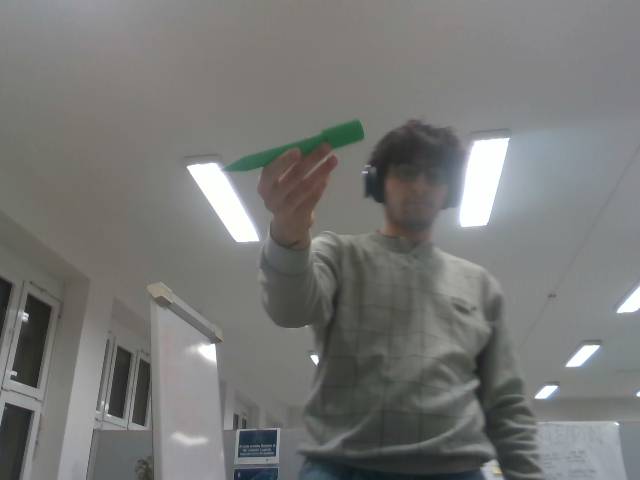Probe: (216, 116, 367, 175)
